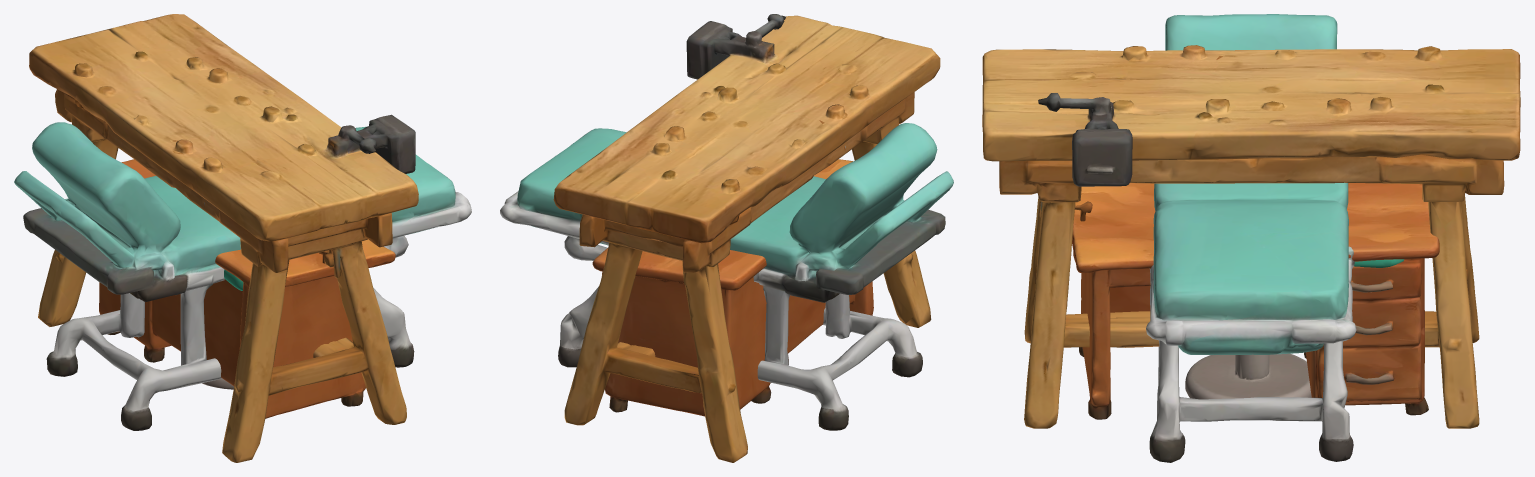
File: tables.glb
3 views of the same model, side by side, from view 1: azimuth 30°, elevation 25°; view 2: azimuth 150°, elevation 25°; view 3: azimuth 270°, elevation 25° (orthographic). The views are drawn at different scales.
Parts seen in each view (by area): view 1: etabli-menuisier, table-examen, bureau-medecin; view 2: etabli-menuisier, table-examen, bureau-medecin; view 3: etabli-menuisier, table-examen, bureau-medecin, table-veterinaire.
Boxes of the visible parts, x1,y1,x2,y2 form: etabli-menuisier: [29, 14, 418, 462]; table-examen: [14, 122, 471, 430]; bureau-medecin: [99, 159, 395, 418]; etabli-menuisier: [553, 14, 940, 462]; table-examen: [500, 123, 953, 430]; bureau-medecin: [592, 159, 873, 416]; etabli-menuisier: [982, 45, 1520, 428]; table-examen: [1146, 14, 1356, 462]; bureau-medecin: [1072, 183, 1439, 419]; table-veterinaire: [1185, 259, 1404, 399].
Bounding box in the file's own units: 1.9 × 1.31 × 2.
Materials: 2 (2 with a texture image).
